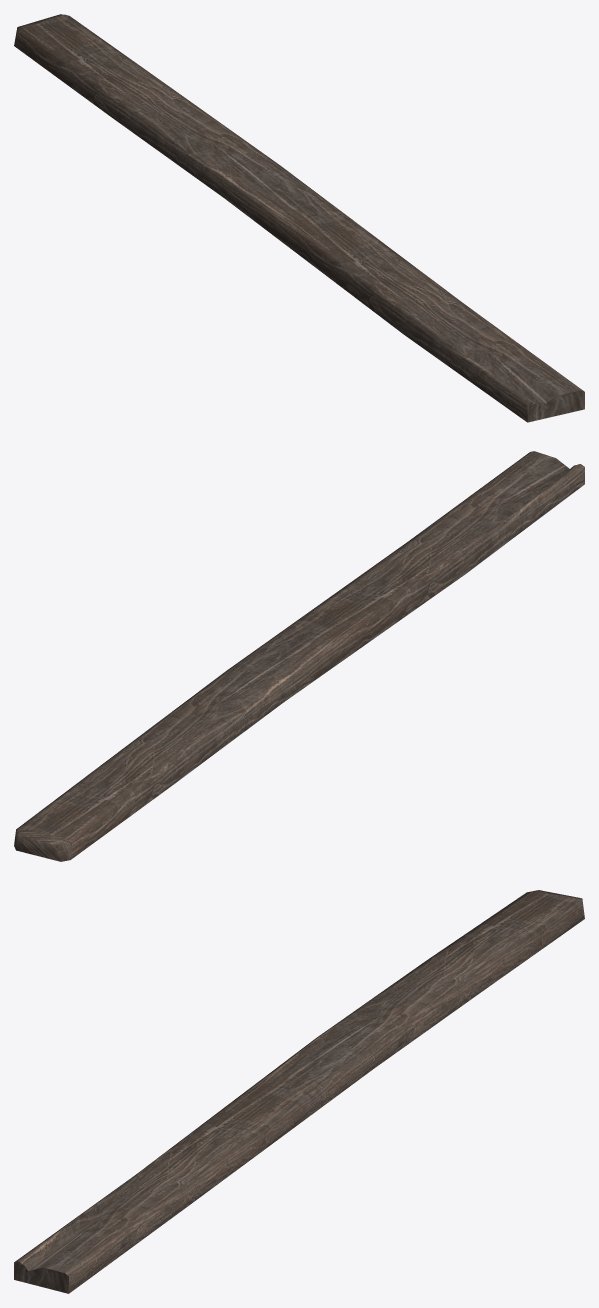
Rendered from Plank01.fbx.
3 renders of one model, top to bottom at view 1: azimuth 30°, elevation 25°; view 2: azimuth 150°, elevation 25°; view 3: azimuth 330°, elevation 25°, orthographic.
Visible parts, largest first — view 1: SM_COM_Planks_01.mo; view 2: SM_COM_Planks_01.mo; view 3: SM_COM_Planks_01.mo.
Part boxes in pixels (x1=…): SM_COM_Planks_01.mo: x1=14, y1=14, x2=584, y2=422; SM_COM_Planks_01.mo: x1=14, y1=451, x2=584, y2=861; SM_COM_Planks_01.mo: x1=14, y1=890, x2=584, y2=1293.
Bounding box in the file's own units: 14.47 × 5.52 × 218.
